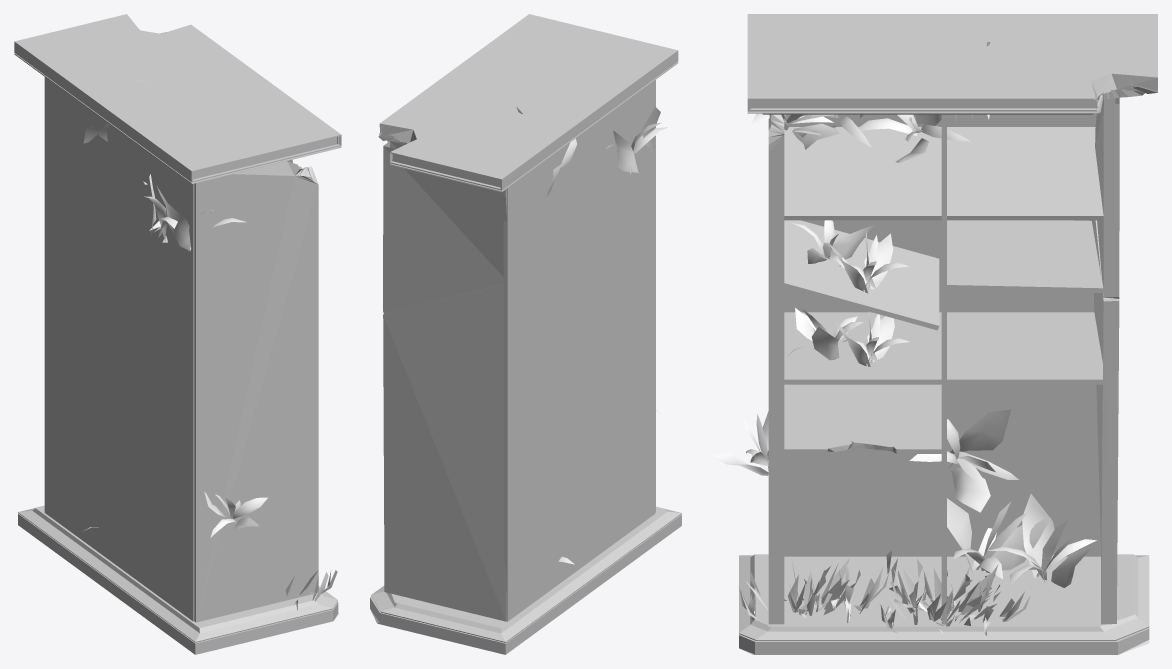
The model's file is furniture_2.fbx.
3 views of the same model, side by side, from view 1: azimuth 30°, elevation 25°; view 2: azimuth 150°, elevation 25°; view 3: azimuth 270°, elevation 25° (orthographic). The views are drawn at different scales.
Parts seen in each view (by area): view 1: furniture_2; view 2: furniture_2; view 3: furniture_2.
Boxes of the visible parts, x1=… form: furniture_2: x1=14, y1=14, x2=341, y2=654; furniture_2: x1=370, y1=14, x2=681, y2=654; furniture_2: x1=710, y1=14, x2=1157, y2=654.
Bounding box in the file's own units: 117 × 303 × 218.
